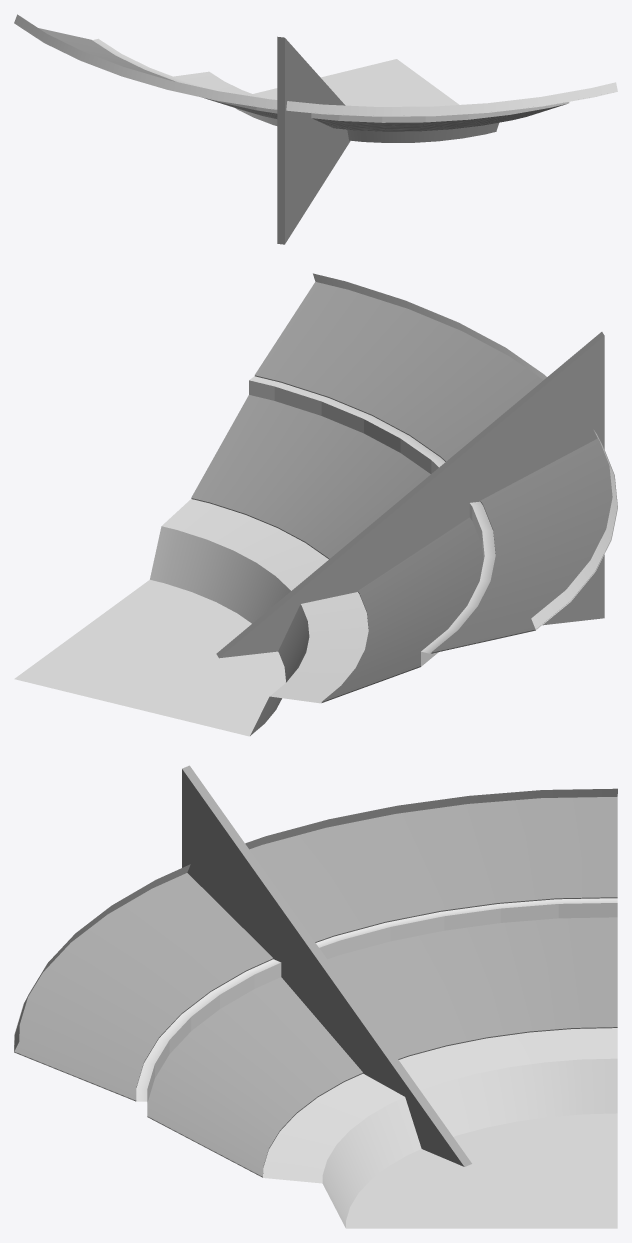
File: SM_Arena_v1.fbx
The picture shows the model from 3 angles, top to bottom: view 1: azimuth 30°, elevation 25°; view 2: azimuth 150°, elevation 25°; view 3: azimuth 270°, elevation 25°; orthographic projection. The views are drawn at different scales.
Parts seen in each view (by area): view 1: SM_ArenaBase_V1, tussenschot1, ArenaPubliek_v1; view 2: ArenaPubliek_v1, SM_ArenaBase_V1, tussenschot1; view 3: ArenaPubliek_v1, SM_ArenaBase_V1, tussenschot1.
Part boxes in pixels (x1,y1,x2,y2): SM_ArenaBase_V1: (14,14,617,142); tussenschot1: (277,36,350,244); ArenaPubliek_v1: (38,28,176,81); ArenaPubliek_v1: (191,282,617,701); SM_ArenaBase_V1: (14,273,617,736); tussenschot1: (216,332,604,658); ArenaPubliek_v1: (14,796,617,1176); SM_ArenaBase_V1: (14,788,617,1228); tussenschot1: (182,765,471,1166).
Size of the model in its own units: 222 by 115 by 223.
